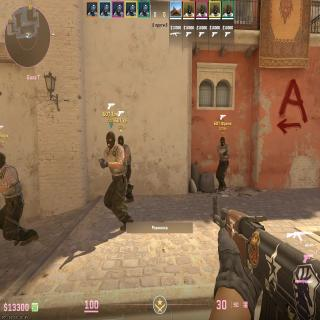T-Body: (0, 152, 25, 243), (102, 131, 127, 215), (117, 135, 132, 196), (217, 136, 230, 191)
T-Head: (106, 131, 115, 149), (0, 152, 6, 169), (118, 135, 124, 146), (220, 136, 226, 147)
